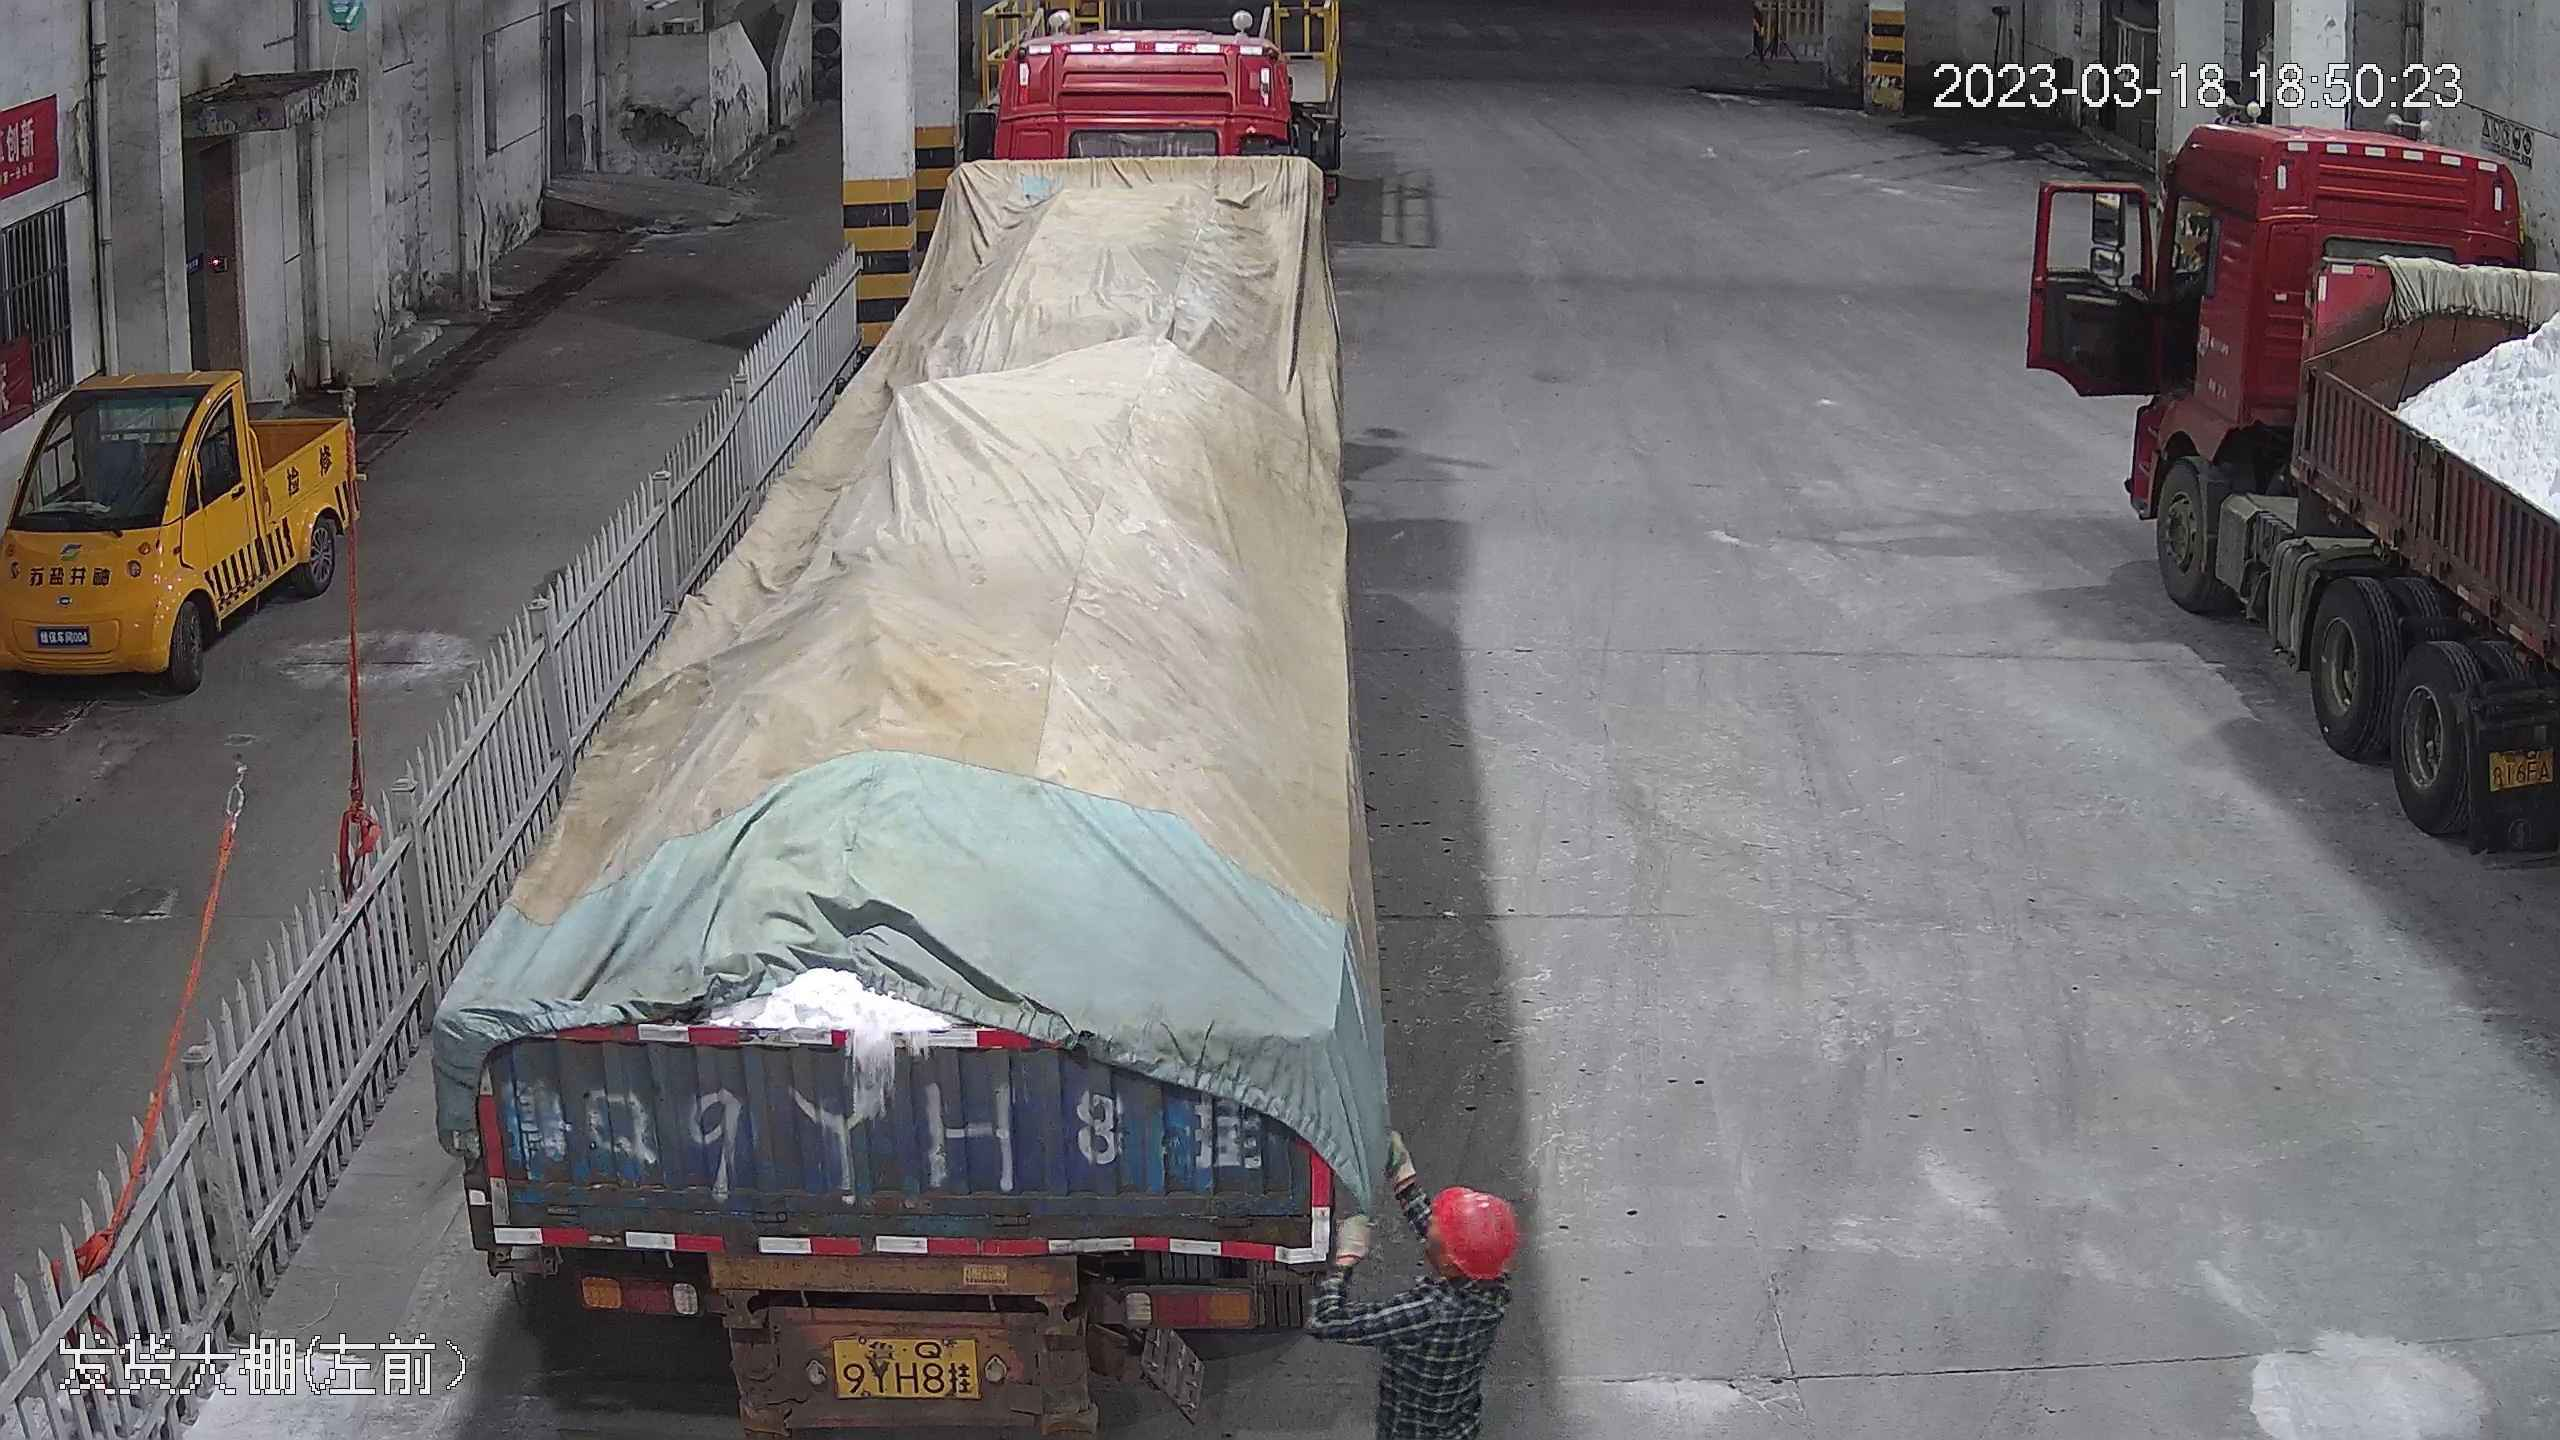head: (1374, 1189, 1529, 1344)
helmet: (1428, 1184, 1523, 1279)
people: (1360, 1188, 1526, 1433)
truck: (408, 8, 1370, 1400), (2089, 100, 2560, 858)
